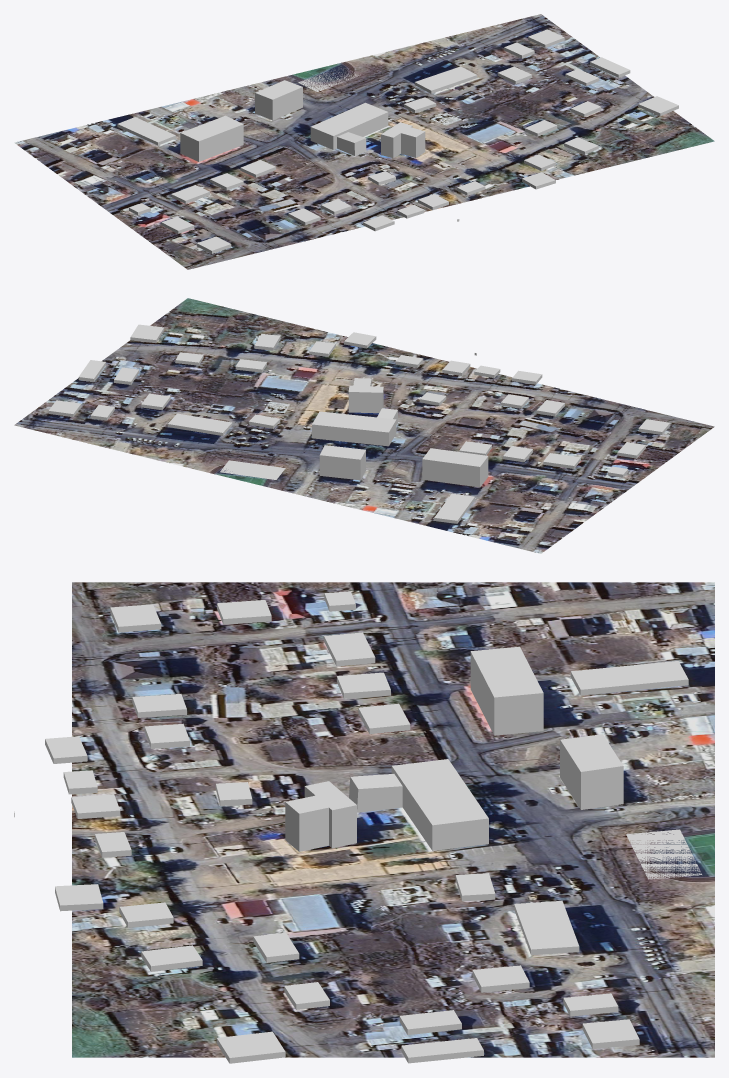
The model's file is kunanbaykaji.glb.
The picture shows the model from 3 angles, top to bottom: view 1: azimuth 30°, elevation 25°; view 2: azimuth 150°, elevation 25°; view 3: azimuth 270°, elevation 25°; orthographic projection. The views are drawn at different scales.
Visible parts, largest first — view 1: EXPORT_GOOGLE_SAT_WM, Areas:building, Areas:building.001, Areas:leisure, Cube.002; view 2: EXPORT_GOOGLE_SAT_WM, Areas:building, Areas:building.001, Areas:leisure; view 3: EXPORT_GOOGLE_SAT_WM, Areas:building, Areas:building.001, Areas:leisure, Cube.002.
Part boxes in pixels (bbox=[...]): EXPORT_GOOGLE_SAT_WM: bbox=[14, 14, 714, 269]; Areas:building: bbox=[117, 29, 678, 253]; Areas:building.001: bbox=[310, 102, 388, 149]; Areas:leisure: bbox=[298, 68, 360, 91]; Cube.002: bbox=[337, 132, 366, 155]; EXPORT_GOOGLE_SAT_WM: bbox=[14, 298, 714, 553]; Areas:building: bbox=[48, 324, 670, 523]; Areas:building.001: bbox=[312, 411, 396, 446]; Areas:leisure: bbox=[220, 460, 285, 479]; EXPORT_GOOGLE_SAT_WM: bbox=[72, 582, 714, 1057]; Areas:building: bbox=[45, 591, 688, 1063]; Areas:building.001: bbox=[391, 759, 488, 850]; Areas:leisure: bbox=[626, 829, 701, 879]; Cube.002: bbox=[349, 774, 402, 812].
Bounding box in the file's own units: 1.79e+07 × 1033161 × 1.1e+07.
Materials: 2 (1 with a texture image).
